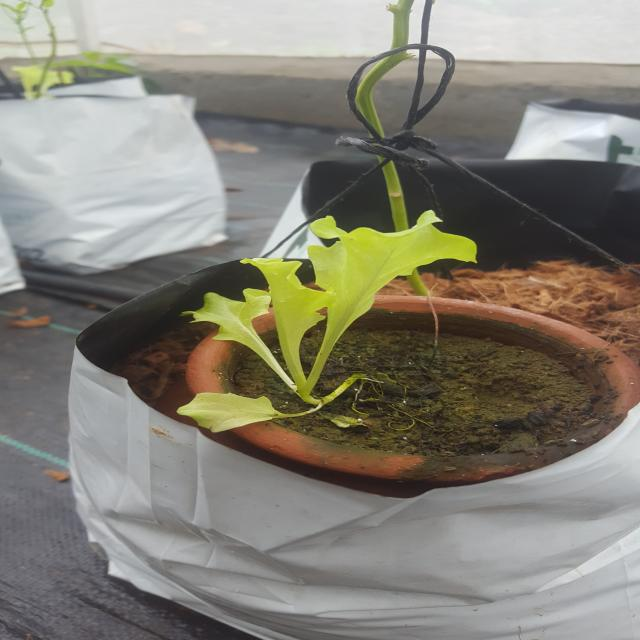Lettuce-Not-Ready-to-Harvest: (210, 210, 475, 400)
